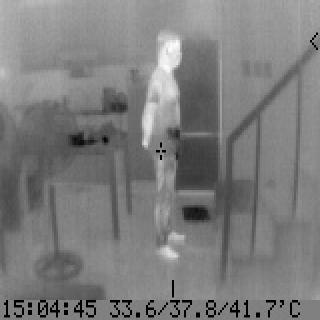Gun: (162, 122, 184, 162)
